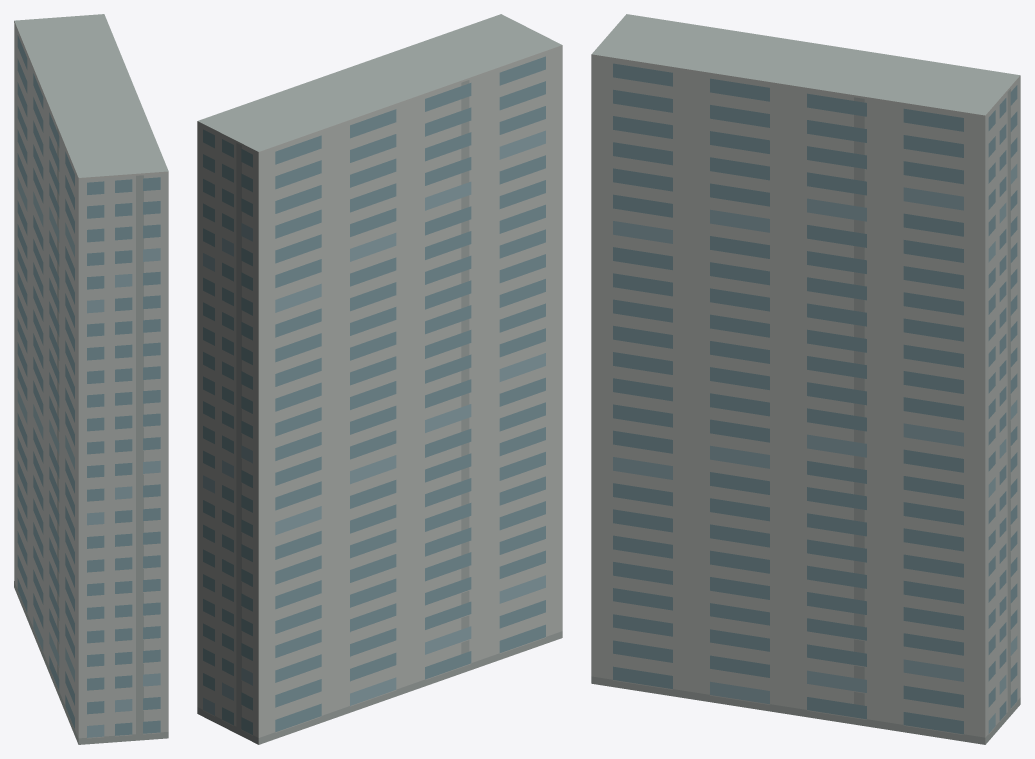
File: residential-fef08570-4d05-49d8-8b77-fd9cae540e1a.glb
The picture shows the model from 3 angles, left to right: view 1: azimuth 30°, elevation 25°; view 2: azimuth 150°, elevation 25°; view 3: azimuth 270°, elevation 25°; orthographic projection. The views are drawn at different scales.
Parts seen in each view (by area): view 1: residential-fef08570-4d05-49d8-8b77-fd9cae540e1a.tmp; view 2: residential-fef08570-4d05-49d8-8b77-fd9cae540e1a.tmp; view 3: residential-fef08570-4d05-49d8-8b77-fd9cae540e1a.tmp.
Part boxes in pixels (box(x1,y1,x2,y2)): residential-fef08570-4d05-49d8-8b77-fd9cae540e1a.tmp: box(14, 14, 168, 744); residential-fef08570-4d05-49d8-8b77-fd9cae540e1a.tmp: box(197, 14, 562, 744); residential-fef08570-4d05-49d8-8b77-fd9cae540e1a.tmp: box(591, 14, 1020, 744).
Size of the model in its own units: 25.34 by 73.2 by 45.23.
